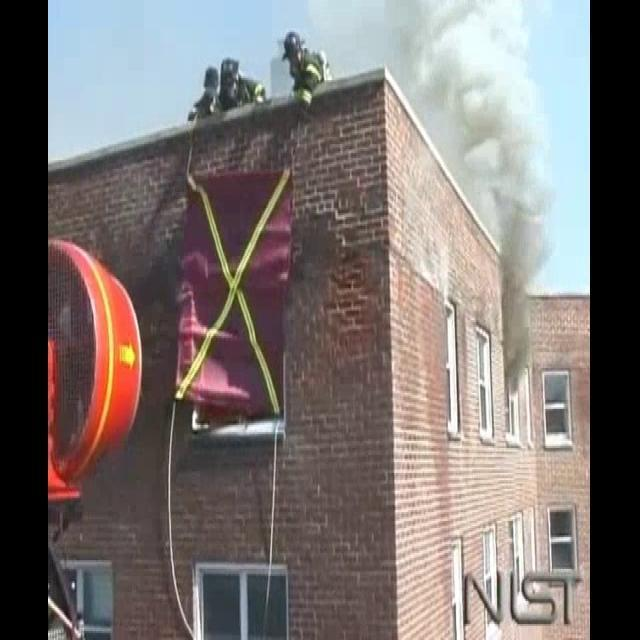Smoke: (379, 0, 561, 396)
